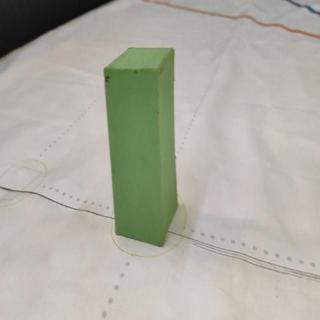greenbox: (103, 47, 178, 245)
